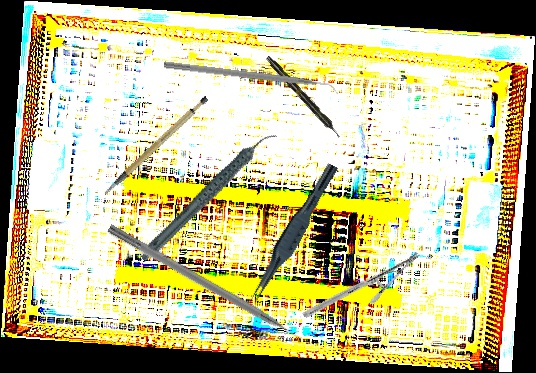Chopper: (162, 61, 340, 99)
Handpiece: (120, 130, 298, 263), (264, 53, 343, 141)
Needle Holder: (301, 218, 422, 352)
Pusher: (105, 223, 315, 352)
Scalpel Handle: (90, 93, 220, 196)
Tissue Forceps: (247, 158, 339, 307)
